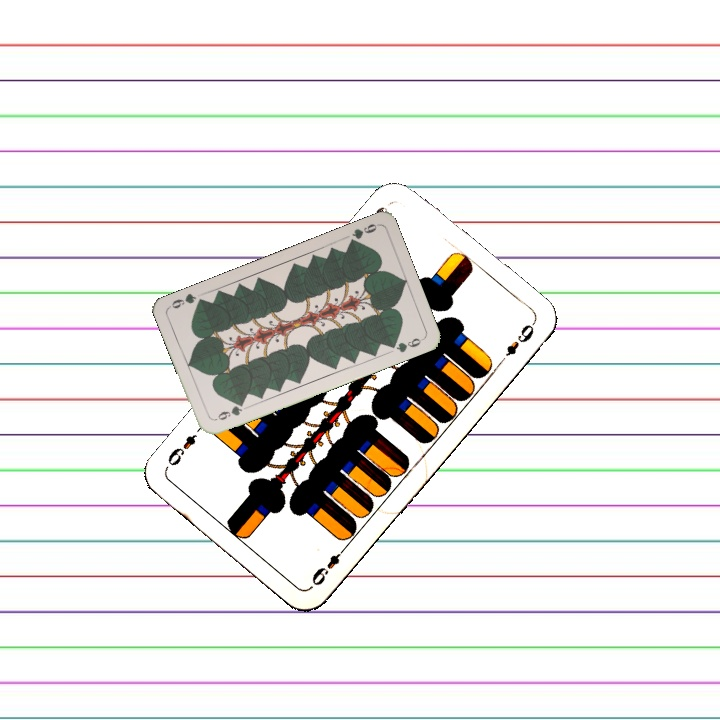E9: (307, 542, 350, 588)
G9: (344, 220, 381, 248), (210, 398, 247, 423)
